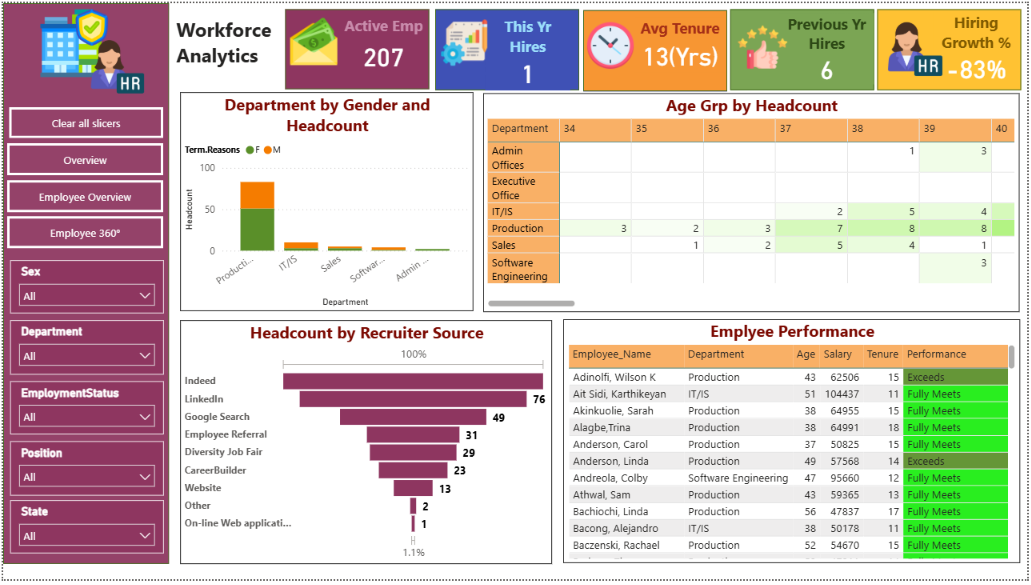

The dashboard page shown, as its layout file describes it:
{"tool":"powerbi","page":{"name":"Workforce Analytics","canvas":[1280,720],"ordinal":3},"visuals":[{"type":"shape","box":[0,0,207.4,700.9],"z":0},{"type":"image","box":[40,1,97.5,97.5],"z":0,"group":"g6"},{"type":"shape","box":[908.3,6.9,180,101.3],"z":0,"group":"g4"},{"type":"shape","box":[540,7,180,101.3],"z":0,"group":"g2"},{"type":"shape","box":[1093.1,7,180,101.3],"z":0,"group":"g5"},{"type":"shape","box":[352.8,7.2,180,100.1],"z":0,"group":"g1"},{"type":"shape","box":[724.8,8.6,180,101.3],"z":0,"group":"g3"},{"type":"card","title":"Hiring Growth %","fields":{"Values":["All Measures.Hiring Growth %"]},"box":[1163,10.8,107.5,88.8],"z":1000,"group":"g5"},{"type":"card","title":"Previous Yr Hires ","fields":{"Values":["All Measures.Previous Year hires LY"]},"box":[969.1,12.1,118.8,88.8],"z":1000,"group":"g4"},{"type":"card","title":"Active Emp","fields":{"Values":["All Measures.Total Active Employees"]},"box":[421.9,14.3,108.5,76.3],"z":1000,"group":"g1"},{"type":"card","title":"This Yr Hires ","fields":{"Values":["All Measures.New Hires TY"]},"box":[602.1,15.8,106.2,92.5],"z":1000,"group":"g2"},{"type":"card","title":"Avg Tenure","fields":{"Values":["All Measures.Avg tenure"]},"box":[788,16.9,114.4,69.1],"z":1000,"group":"g3"},{"type":"image","box":[103.8,36,78.8,86.2],"z":1000,"group":"g6"},{"type":"slicer","fields":{"Values":["HR_Employees_Data.EmploymentStatus"]},"box":[8.3,472,191.9,66.8],"z":1000},{"type":"image","box":[354.2,5.8,69.1,83.4],"z":2000,"group":"g1"},{"type":"image","box":[913.9,8.2,71.5,91.8],"z":2000,"group":"g4"},{"type":"image","box":[536.4,11.8,79.9,73.9],"z":2000,"group":"g2"},{"type":"image","box":[725.1,12.6,67.9,81.1],"z":2000,"group":"g3"},{"type":"slicer","fields":{"Values":["HR_Employees_Data.Sex"]},"box":[8.3,320.7,191.9,66.8],"z":2000},{"type":"slicer","fields":{"Values":["HR_Employees_Data.Department"]},"box":[8.3,395.8,191.9,67.9],"z":3000},{"type":"slicer","fields":{"Values":["HR_Employees_Data.Position"]},"box":[8.3,547.1,191.9,67.9],"z":4000},{"type":"slicer","fields":{"Values":["HR_Employees_Data.State"]},"box":[8.3,621,191.9,66.8],"z":5000},{"type":"actionButton","box":[5,175,195,40],"z":6000},{"type":"actionButton","box":[5,221.2,195,40],"z":7000},{"type":"actionButton","box":[5,266.2,195,40],"z":8000},{"type":"textbox","box":[211.2,11.2,136.2,96.2],"z":9000},{"type":"group","id":"g1","title":"Group 1","box":[352.8,5.8,180,101.5],"z":10000},{"type":"group","id":"g2","title":"Group 1","box":[536.4,7,183.6,101.3],"z":11000},{"type":"group","id":"g3","title":"Group 1","box":[724.8,8.6,180,101.3],"z":12000},{"type":"group","id":"g4","title":"Group 1","box":[908.3,6.9,180,101.3],"z":13000},{"type":"group","id":"g5","title":"Group 1","box":[1093.1,7,180,101.3],"z":14000},{"type":"columnChart","title":"Department by Gender and Headcount","fields":{"Category":["HR_Employees_Data.Department"],"Series":["HR_Employees_Data.Sex"],"Y":["All Measures.Headcount"]},"box":[221.2,111.2,366.2,273.8],"z":15000},{"type":"pivotTable","title":"Age Grp by Headcount","fields":{"Rows":["HR_Employees_Data.Department"],"Columns":["HR_Employees_Data.Age"],"Values":["All Measures.Headcount"]},"box":[600,112.5,670,273.8],"z":16000},{"type":"funnel","title":"Headcount by Recruiter Source","fields":{"Category":["HR_Employees_Data.RecruitmentSource"],"Y":["All Measures.Headcount"]},"box":[221.2,396.2,465,305],"z":17000},{"type":"tableEx","title":"Emplyee Performance ","fields":{"Values":["HR_Employees_Data.Employee_Name","HR_Employees_Data.Department","HR_Employees_Data.Age","HR_Employees_Data.Salary","HR_Employees_Data.Tenure","HR_Employees_Data.Performance"]},"box":[700,395,571.2,305],"z":18000},{"type":"group","id":"g6","title":"Group 2","box":[7.1,1,192.5,167.5],"z":19000},{"type":"image","box":[1100.5,13.3,80,87.5],"z":21001,"group":"g5"},{"type":"actionButton","box":[7.1,129.8,192.5,38.8],"z":21002,"group":"g6"}]}

Visuals, with their boxes in screenshot pixels (x1, y1, x2, y2), scaled from the page's 1280x720 canvas onto the 1031x585 screenshot:
shape: left=0, top=0, right=167, bottom=569
image: left=32, top=1, right=111, bottom=80
shape: left=732, top=6, right=877, bottom=88
shape: left=435, top=6, right=580, bottom=88
shape: left=880, top=6, right=1025, bottom=88
shape: left=284, top=6, right=429, bottom=87
shape: left=584, top=7, right=729, bottom=89
"Hiring Growth %" card: left=937, top=9, right=1023, bottom=81
"Previous Yr Hires " card: left=781, top=10, right=876, bottom=82
"Active Emp" card: left=340, top=12, right=427, bottom=74
"This Yr Hires " card: left=485, top=13, right=571, bottom=88
"Avg Tenure" card: left=635, top=14, right=727, bottom=70
image: left=84, top=29, right=147, bottom=99
slicer - HR_Employees_Data.EmploymentStatus: left=7, top=384, right=161, bottom=438
image: left=285, top=5, right=341, bottom=72
image: left=736, top=7, right=794, bottom=81
image: left=432, top=10, right=496, bottom=70
image: left=584, top=10, right=639, bottom=76
slicer - HR_Employees_Data.Sex: left=7, top=261, right=161, bottom=315
slicer - HR_Employees_Data.Department: left=7, top=322, right=161, bottom=377
slicer - HR_Employees_Data.Position: left=7, top=445, right=161, bottom=500
slicer - HR_Employees_Data.State: left=7, top=505, right=161, bottom=559
actionButton: left=4, top=142, right=161, bottom=175
actionButton: left=4, top=180, right=161, bottom=212
actionButton: left=4, top=216, right=161, bottom=249
textbox: left=170, top=9, right=280, bottom=87
"Group 1" group: left=284, top=5, right=429, bottom=87
"Group 1" group: left=432, top=6, right=580, bottom=88
"Group 1" group: left=584, top=7, right=729, bottom=89
"Group 1" group: left=732, top=6, right=877, bottom=88
"Group 1" group: left=880, top=6, right=1025, bottom=88
"Department by Gender and Headcount" columnChart: left=178, top=90, right=473, bottom=313
"Age Grp by Headcount" pivotTable: left=483, top=91, right=1023, bottom=314
"Headcount by Recruiter Source" funnel: left=178, top=322, right=553, bottom=570
"Emplyee Performance " tableEx: left=564, top=321, right=1024, bottom=569
"Group 2" group: left=6, top=1, right=161, bottom=137
image: left=886, top=11, right=951, bottom=82
actionButton: left=6, top=105, right=161, bottom=137
